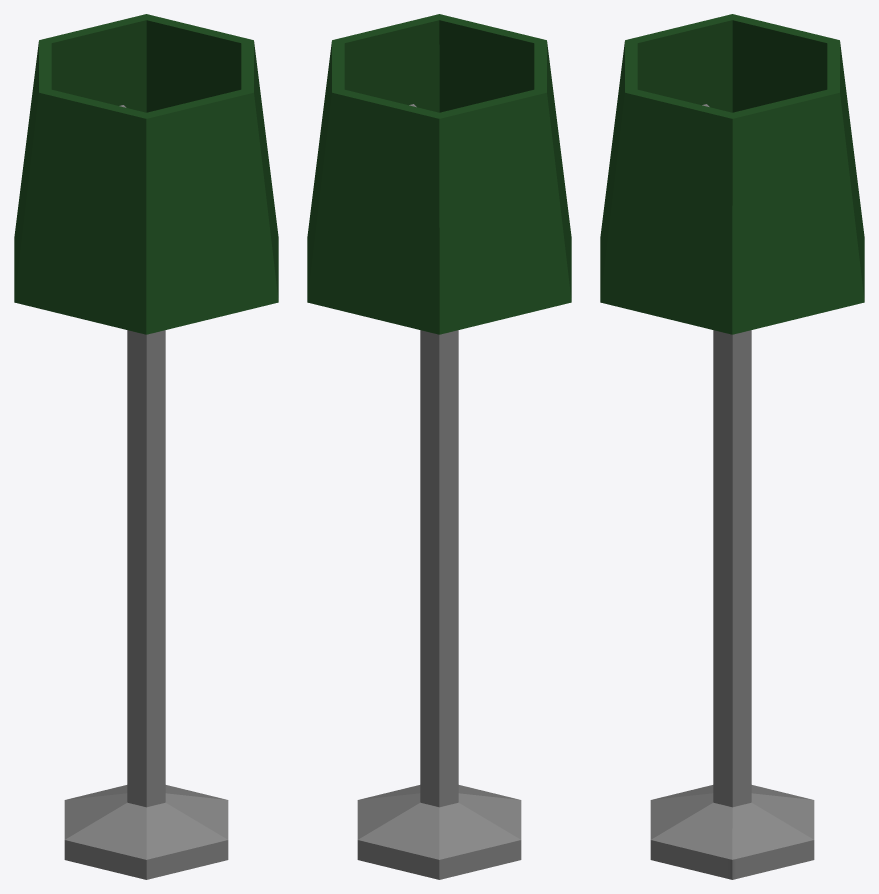
Rendered from jalkalamppu_green.FBX.
3 views of the same model, side by side, from view 1: azimuth 30°, elevation 25°; view 2: azimuth 150°, elevation 25°; view 3: azimuth 270°, elevation 25° (orthographic).
Visible parts, largest first — view 1: jalkalamppu_green; view 2: jalkalamppu_green; view 3: jalkalamppu_green.
Part boxes in pixels (bbox=[...]): jalkalamppu_green: bbox=[14, 14, 278, 879]; jalkalamppu_green: bbox=[307, 14, 571, 879]; jalkalamppu_green: bbox=[600, 14, 864, 879].
Bounding box in the file's own units: 83.91 × 235 × 72.67.
